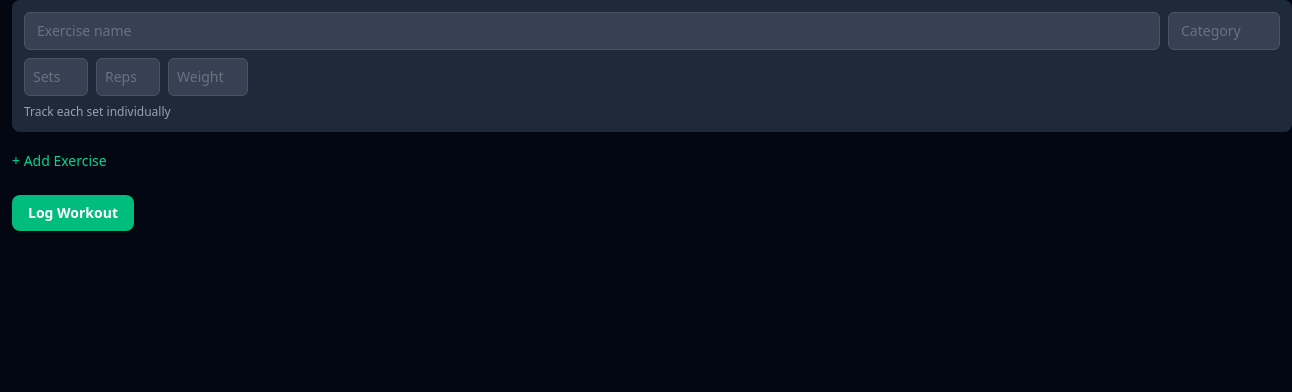
Scenario: WorkoutForm › removes exercise row when delete is clicked
Click the button "+ Add Exercise" at (59, 161), box [12,151,107,171]
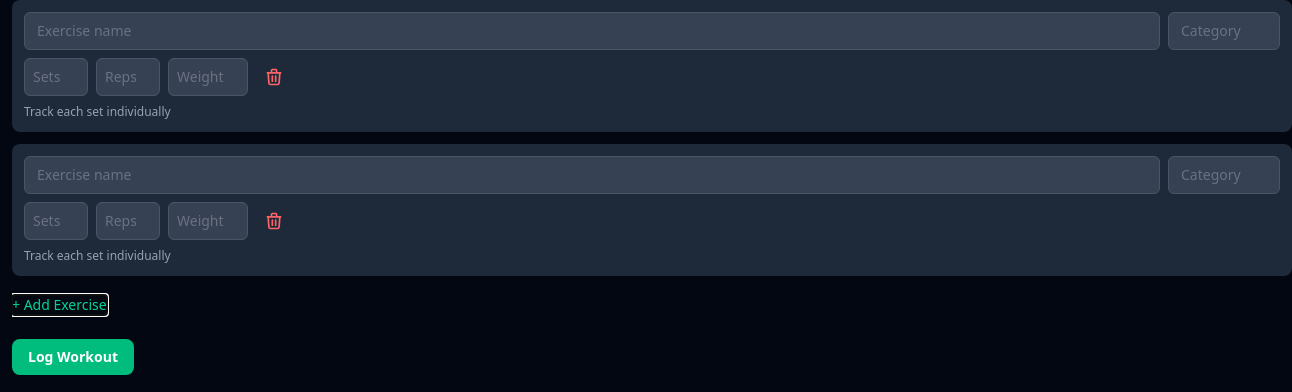
Check: the number of fields with placeholder "Exercise name" is 2, box [24,12,1160,50]; [24,156,1160,194]
Click the 1st button named "Remove exercise" at (274, 77), box [256,58,292,96]
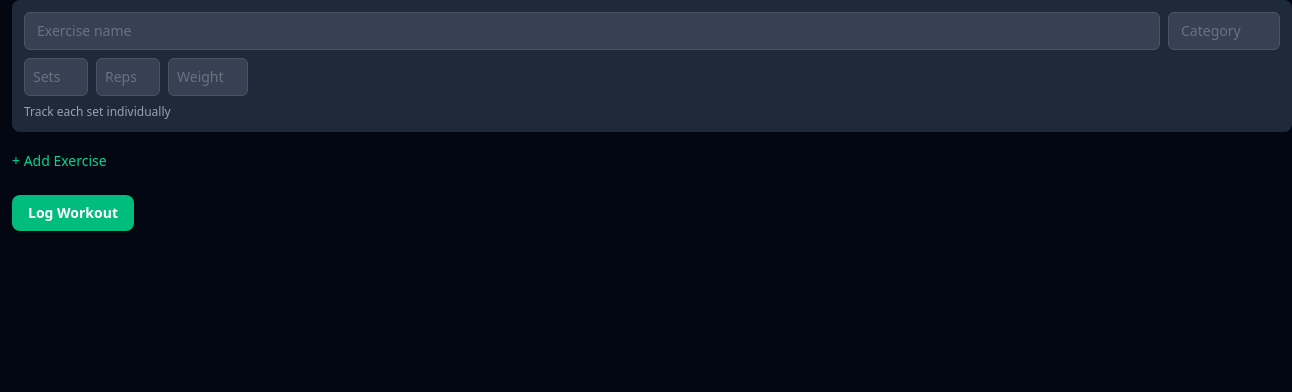
Check: the number of fields with placeholder "Exercise name" is 1, box [24,12,1160,50]
